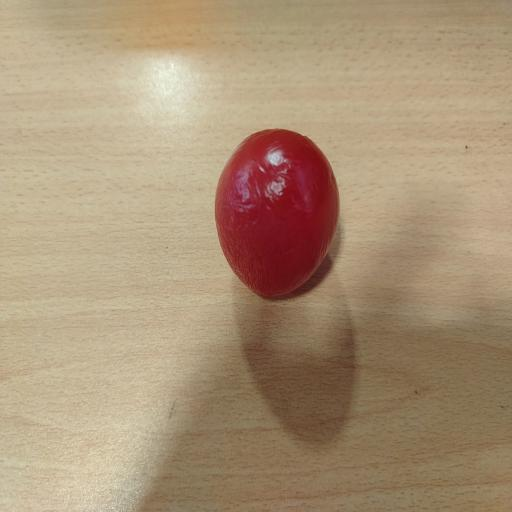spoiled: (215, 130, 339, 295)
